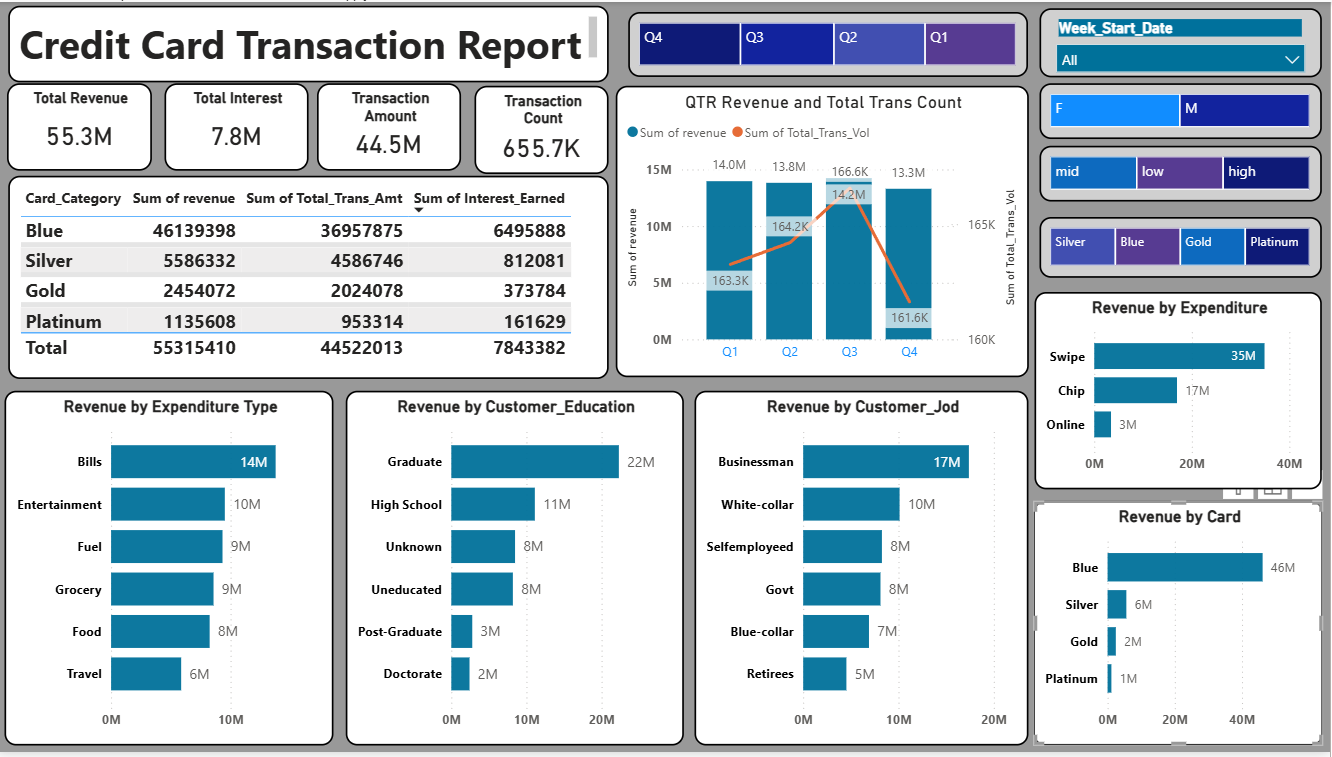

Layout of this report page (visuals, bound fields, positions):
{"tool":"powerbi","page":{"name":"Credit Card Transaction Report","canvas":[1280,720],"ordinal":0},"visuals":[{"type":"textbox","box":[10.5,3.5,576.7,73.3],"z":0},{"type":"lineStackedColumnComboChart","title":"QTR Revenue and Total Trans Count","fields":{"Category":["credit_card.Qtr"],"Y":["Sum(credit_card.revenue)"],"Y2":["Sum(credit_card.Total_Trans_Vol)"]},"box":[594.2,80.2,396.5,280.2],"z":1000},{"type":"barChart","title":"Revenue by Expenditure Type","fields":{"Y":["Sum(credit_card.revenue)"],"Category":["credit_card.Exp Type"]},"box":[7,373.3,316.3,340.7],"z":2000},{"type":"barChart","title":"Revenue by Customer_Education","fields":{"Y":["Sum(credit_card.revenue)"],"Category":["customer.Education_Level"]},"box":[334.9,373.3,324.4,340.7],"z":3000},{"type":"barChart","title":"Revenue by Customer_Jod","fields":{"Y":["Sum(credit_card.revenue)"],"Category":["customer.Customer_Job"]},"box":[669.8,373.3,320.9,340.7],"z":4000},{"type":"barChart","title":"Revenue by Card","fields":{"Y":["Sum(credit_card.revenue)"],"Category":["credit_card.Card_Category"]},"box":[1001.2,479.1,279.1,234.9],"z":5000},{"type":"barChart","title":"Revenue by Expenditure","fields":{"Y":["Sum(credit_card.revenue)"],"Category":["credit_card.Use Chip"]},"box":[1003.5,279.1,276.7,189.5],"z":6000},{"type":"tableEx","fields":{"Values":["credit_card.Card_Category","Sum(credit_card.revenue)","Sum(credit_card.Total_Trans_Amt)","Sum(credit_card.Interest_Earned)"]},"box":[10.5,167.4,576.7,195.3],"z":7000},{"type":"card","title":"Total Revenue","fields":{"Values":["Sum(credit_card.revenue)"]},"box":[10,77.5,139,84],"z":8000},{"type":"card","title":"Transaction Amount","fields":{"Values":["Sum(credit_card.Total_Trans_Amt)"]},"box":[307,77.9,138.4,83.7],"z":9000},{"type":"card","title":"Total Interest","fields":{"Values":["Sum(credit_card.Interest_Earned)"]},"box":[160.5,77.9,138.4,83.7],"z":10000},{"type":"card","title":"Transaction Count","fields":{"Values":["Sum(credit_card.Total_Trans_Vol)"]},"box":[458.1,80.2,129.1,84.9],"z":11000},{"type":"slicer","fields":{"Values":["credit_card.Week_Start_Date"]},"box":[1001.2,5.8,270.9,66.3],"z":12000},{"type":"treemap","fields":{"Group":["credit_card.Qtr"],"Values":["Avg(credit_card.Client_Num)"]},"box":[607,9.3,383.7,62.8],"z":13000},{"type":"treemap","fields":{"Group":["credit_card.Card_Category"],"Values":["Avg(credit_card.Client_Num)"]},"box":[1001.2,207,270.9,58.1],"z":14000},{"type":"treemap","fields":{"Values":["Avg(credit_card.Client_Num)"],"Group":["customer.incomegroup"]},"box":[1001.2,138.4,270.9,53.5],"z":15000},{"type":"treemap","fields":{"Values":["Avg(credit_card.Client_Num)"],"Group":["customer.Gender"]},"box":[1001.2,77.9,270.9,53.5],"z":16000}]}

Visuals, with their boxes in screenshot pixels (x1, y1, x2, y2), scaled from the page's 1280x720 canvas onto the 1332x757 screenshot:
textbox: 11 4 611 81
"QTR Revenue and Total Trans Count" lineStackedColumnComboChart: 618 84 1031 379
"Revenue by Expenditure Type" barChart: 7 392 336 751
"Revenue by Customer_Education" barChart: 349 392 686 751
"Revenue by Customer_Jod" barChart: 697 392 1031 751
"Revenue by Card" barChart: 1042 504 1331 751
"Revenue by Expenditure" barChart: 1044 293 1331 493
tableEx - credit_card.Card_Category x Sum(credit_card.revenue): 11 176 611 381
"Total Revenue" card: 10 81 155 170
"Transaction Amount" card: 319 82 463 170
"Total Interest" card: 167 82 311 170
"Transaction Count" card: 477 84 611 174
slicer - credit_card.Week_Start_Date: 1042 6 1324 76
treemap - credit_card.Qtr x Avg(credit_card.Client_Num): 632 10 1031 76
treemap - credit_card.Card_Category x Avg(credit_card.Client_Num): 1042 218 1324 279
treemap - Avg(credit_card.Client_Num) x customer.incomegroup: 1042 146 1324 202
treemap - Avg(credit_card.Client_Num) x customer.Gender: 1042 82 1324 138
